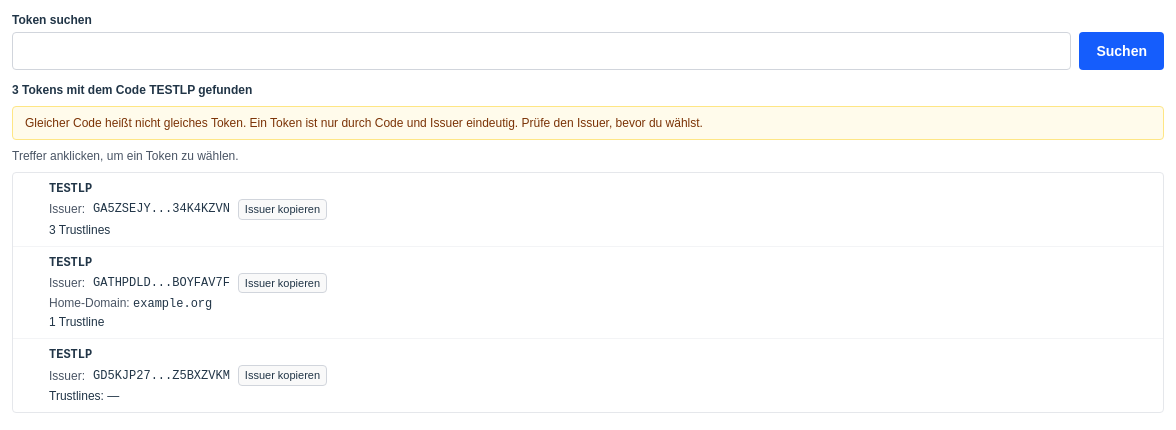
Test case: AssetPickerField Trefferliste › kopiert den Issuer, ohne den Treffer zu waehlen
Click the button "Issuer kopieren" next to "GA5ZSEJY...34K4KZVN": click(282, 209) [238, 199, 327, 220]
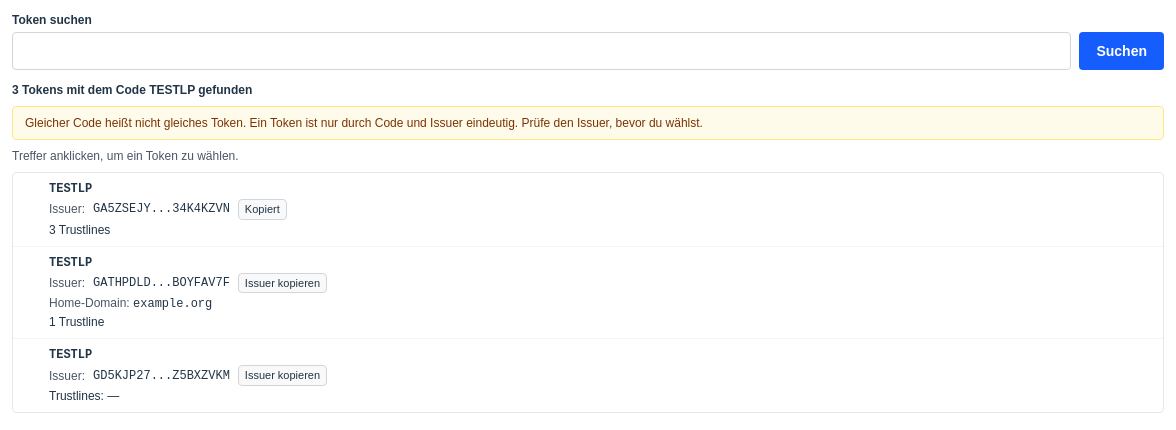
Check: the button "Kopiert" is shown, box [238, 199, 287, 220]
